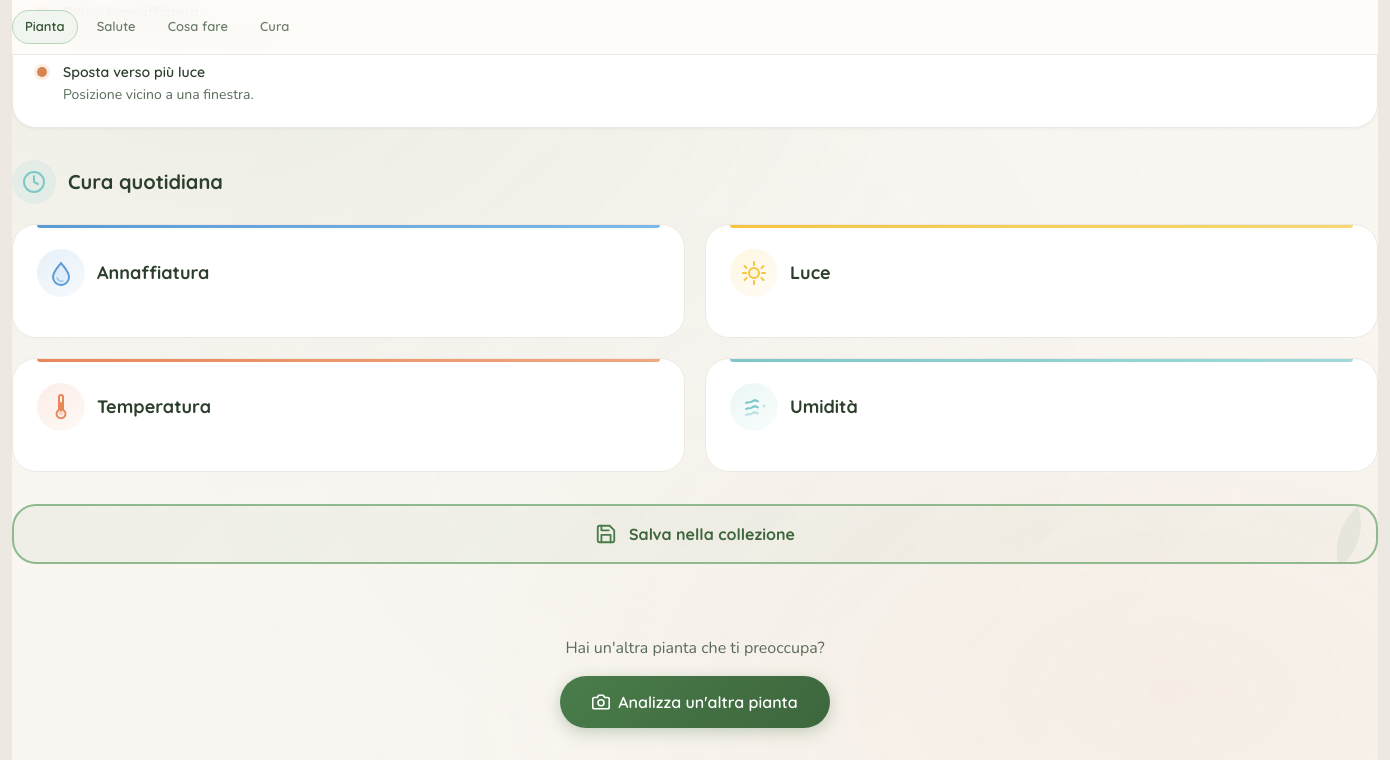
Test: Pulsante salva nella collezione › mostra messaggio di conferma dopo il salvataggio
The width and height of the screenshot is (1390, 760).
(page scrolled)
Step 1. Click the button "Salva nella collezione" → (695, 534), box [12,504,1378,564]
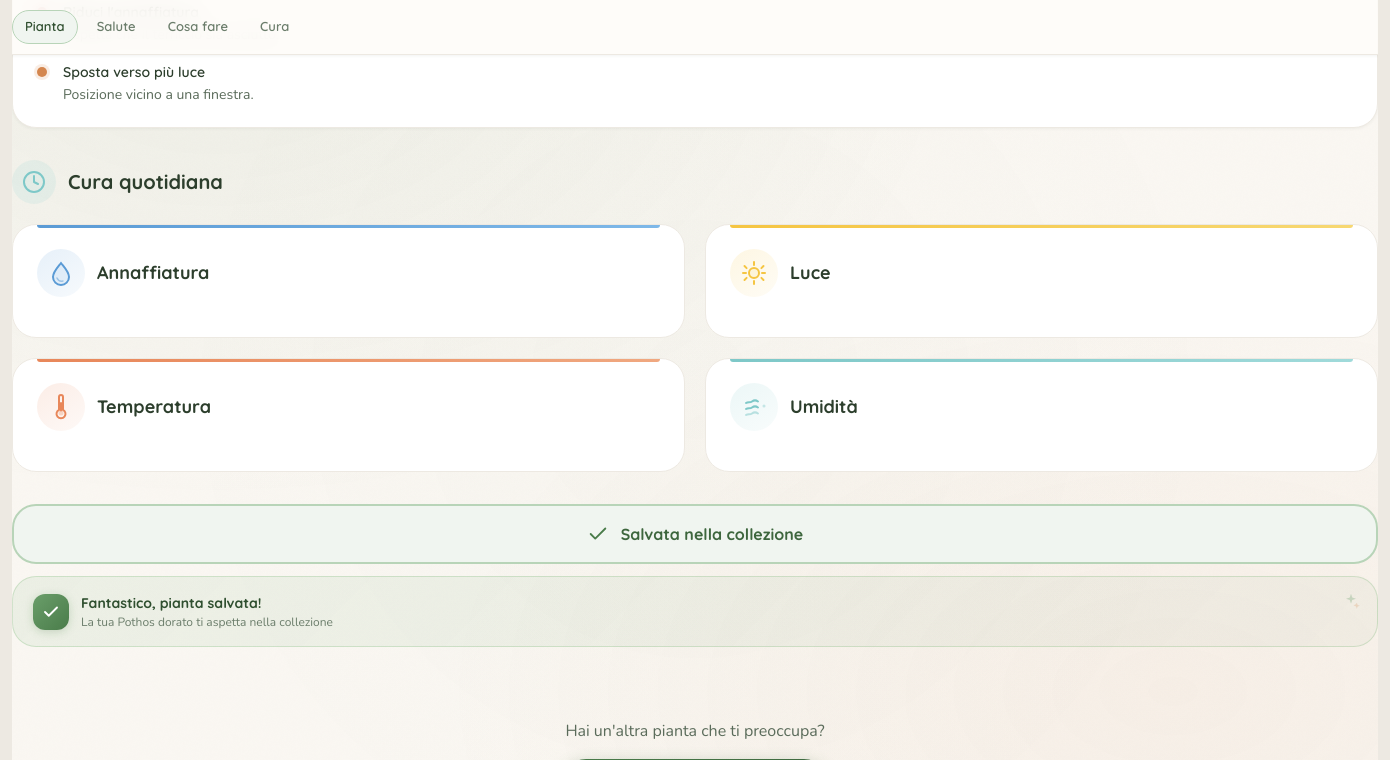
Now the heading "Fantastico, pianta salvata!" is shown, box [81,594,262,612]
